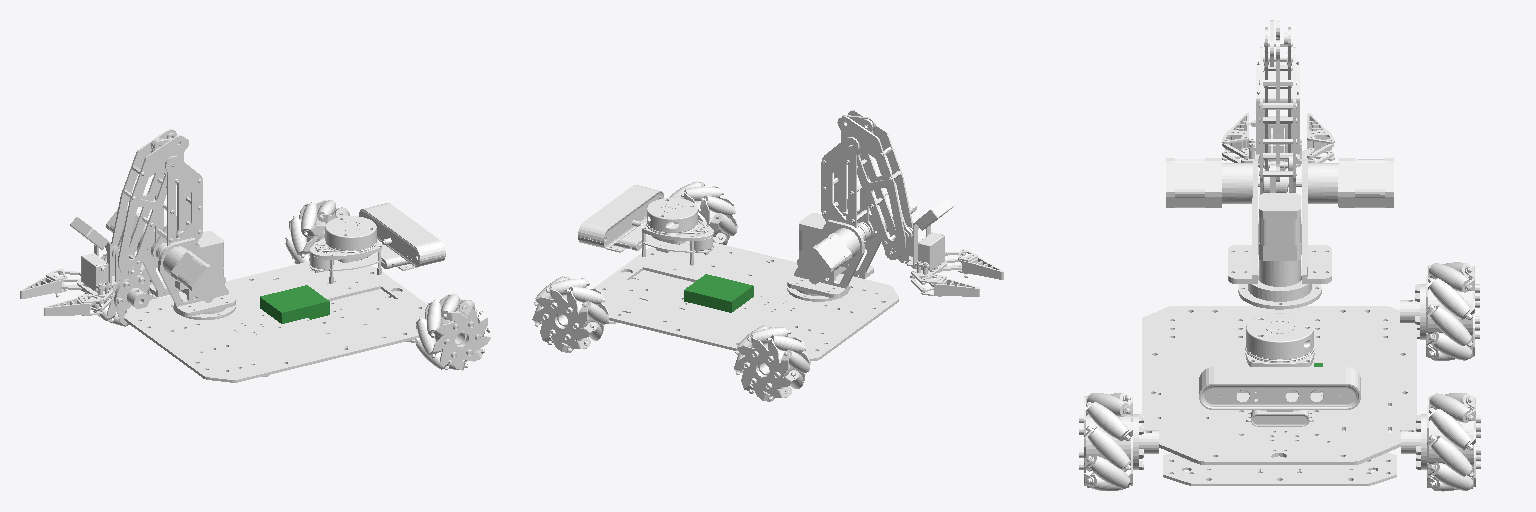
The robot description file, URDF, robot "mec_arm_urdf":
<?xml version="1.0" encoding="utf-8"?>
<!-- This URDF was automatically created by SolidWorks to URDF Exporter! Originally created by Stephen Brawner ([email redacted]) 
     Commit Version: 1.6.0-1-g15f4949  Build Version: 1.6.7594.29634
     For more information, please see http://wiki.ros.org/sw_urdf_exporter -->
<robot
  name="mec_arm_urdf">
  <link
    name="base_footprint">
    <inertial>
      <origin
        xyz="0.0560159662948603 0.000798286377036106 0.0213"
        rpy="0 0 0" />
      <mass
        value="0.171256197920355" />
      <inertia
        ixx="0.000556315681094618"
        ixy="-2.69656288538533E-07"
        ixz="-7.78679037909163E-20"
        iyy="0.00138230969964423"
        iyz="2.28567407614278E-20"
        izz="0.00193836849644197" />
    </inertial>
    <visual>
      <origin
        xyz="0 0 0"
        rpy="0 0 0" />
      <geometry>
        <mesh
          filename="package://mec_arm_urdf/meshes/base_footprint.STL" />
      </geometry>
      <material
        name="">
        <color
          rgba="1 1 1 1" />
      </material>
    </visual>
    <collision>
      <origin
        xyz="0 0 0"
        rpy="0 0 0" />
      <geometry>
        <mesh
          filename="package://mec_arm_urdf/meshes/base_footprint.STL" />
      </geometry>
    </collision>
  </link>
  <joint
    name="base_footprint_joint"
    type="fixed">
    <origin
      xyz="0 0 0"
      rpy="0 0 0" />
    <parent
      link="base_footprint" />
    <child
      link="base_link" />
    <axis
      xyz="0 0 0" />
  </joint>
  <link
    name="base_link">
    <inertial>
      <origin
        xyz="0.0100180226342788 -0.0075528475147414 0.0514879479603179"
        rpy="0 0 0" />
      <mass
        value="1.34353042508205" />
      <inertia
        ixx="0.00583184111250117"
        ixy="0.0010519604230734"
        ixz="-0.000115425814525346"
        iyy="0.0201678180719352"
        iyz="-0.000143700499512679"
        izz="0.0251210679537772" />
    </inertial>
    <visual>
      <origin
        xyz="0 0 0"
        rpy="0 0 0" />
      <geometry>
        <mesh
          filename="package://mec_arm_urdf/meshes/base_link.STL" />
      </geometry>
      <material
        name="">
        <color
          rgba="1 1 1 1" />
      </material>
    </visual>
    <collision>
      <origin
        xyz="0 0 0"
        rpy="0 0 0" />
      <geometry>
        <mesh
          filename="package://mec_arm_urdf/meshes/base_link.STL" />
      </geometry>
    </collision>
  </link>
  <link
    name="left_front_link">
    <inertial>
      <origin
        xyz="3.90309852688064E-07 -0.0122253108721364 -8.21475939970923E-06"
        rpy="0 0 0" />
      <mass
        value="0.228355235501207" />
      <inertia
        ixx="0.00018862772557126"
        ixy="-1.30959211698729E-08"
        ixz="1.12956960439363E-08"
        iyy="0.000256936504791058"
        iyz="-5.95436455840418E-08"
        izz="0.00018866162356639" />
    </inertial>
    <visual>
      <origin
        xyz="0 0 0"
        rpy="0 0 0" />
      <geometry>
        <mesh
          filename="package://mec_arm_urdf/meshes/left_front_link.STL" />
      </geometry>
      <material
        name="">
        <color
          rgba="1 1 1 1" />
      </material>
    </visual>
    <collision>
      <origin
        xyz="0 0 0"
        rpy="0 0 0" />
      <geometry>
        <mesh
          filename="package://mec_arm_urdf/meshes/left_front_link.STL" />
      </geometry>
    </collision>
  </link>
  <joint
    name="left_front_joint"
    type="fixed">
    <origin
      xyz="0.161977245706031 0.184377420388434 0.0508"
      rpy="0 0 0" />
    <parent
      link="base_link" />
    <child
      link="left_front_link" />
    <axis
      xyz="0 -1 0" />
  </joint>
  <link
    name="left_back_link">
    <inertial>
      <origin
        xyz="-3.65117333515075E-05 -0.0122418956163035 2.98349730089992E-06"
        rpy="0 0 0" />
      <mass
        value="0.228151031978724" />
      <inertia
        ixx="0.000188524043011259"
        ixy="1.43016481186546E-07"
        ixz="-9.41029728152265E-08"
        iyy="0.000256555084544574"
        iyz="-1.0644566687268E-07"
        izz="0.000188242023907636" />
    </inertial>
    <visual>
      <origin
        xyz="0 0 0"
        rpy="0 0 0" />
      <geometry>
        <mesh
          filename="package://mec_arm_urdf/meshes/left_back_link.STL" />
      </geometry>
      <material
        name="">
        <color
          rgba="1 1 1 1" />
      </material>
    </visual>
    <collision>
      <origin
        xyz="0 0 0"
        rpy="0 0 0" />
      <geometry>
        <mesh
          filename="package://mec_arm_urdf/meshes/left_back_link.STL" />
      </geometry>
    </collision>
  </link>
  <joint
    name="left_back_joint"
    type="fixed">
    <origin
      xyz="-0.152022754292458 0.183277420387553 0.0508000000000014"
      rpy="0 0 0" />
    <parent
      link="base_link" />
    <child
      link="left_back_link" />
    <axis
      xyz="0 0 0" />
  </joint>
  <link
    name="right_back_link">
    <inertial>
      <origin
        xyz="-3.90309837616787E-07 0.0122253108721363 -8.21475939968841E-06"
        rpy="0 0 0" />
      <mass
        value="0.228355235501207" />
      <inertia
        ixx="0.000188627725571259"
        ixy="-1.30959210857544E-08"
        ixz="-1.12956960438651E-08"
        iyy="0.000256936504791058"
        iyz="5.95436455839641E-08"
        izz="0.00018866162356639" />
    </inertial>
    <visual>
      <origin
        xyz="0 0 0"
        rpy="0 0 0" />
      <geometry>
        <mesh
          filename="package://mec_arm_urdf/meshes/right_back_link.STL" />
      </geometry>
      <material
        name="">
        <color
          rgba="1 1 1 1" />
      </material>
    </visual>
    <collision>
      <origin
        xyz="0 0 0"
        rpy="0 0 0" />
      <geometry>
        <mesh
          filename="package://mec_arm_urdf/meshes/right_back_link.STL" />
      </geometry>
    </collision>
  </link>
  <joint
    name="right_back_joint"
    type="fixed">
    <origin
      xyz="-0.152022754292454 -0.181522579612448 0.0508"
      rpy="0 0 0" />
    <parent
      link="base_link" />
    <child
      link="right_back_link" />
    <axis
      xyz="0 0 0" />
  </joint>
  <link
    name="right_front_link">
    <inertial>
      <origin
        xyz="-3.90309838199654E-07 0.012225310872136 -8.21475939968841E-06"
        rpy="0 0 0" />
      <mass
        value="0.228355235501207" />
      <inertia
        ixx="0.00018862772557126"
        ixy="-1.30959210859189E-08"
        ixz="-1.12956960437897E-08"
        iyy="0.000256936504791058"
        iyz="5.95436455839148E-08"
        izz="0.000188661623566391" />
    </inertial>
    <visual>
      <origin
        xyz="0 0 0"
        rpy="0 0 0" />
      <geometry>
        <mesh
          filename="package://mec_arm_urdf/meshes/right_front_link.STL" />
      </geometry>
      <material
        name="">
        <color
          rgba="1 1 1 1" />
      </material>
    </visual>
    <collision>
      <origin
        xyz="0 0 0"
        rpy="0 0 0" />
      <geometry>
        <mesh
          filename="package://mec_arm_urdf/meshes/right_front_link.STL" />
      </geometry>
    </collision>
  </link>
  <joint
    name="right_front_joint"
    type="fixed">
    <origin
      xyz="0.161977245706146 -0.182622579612668 0.0508"
      rpy="0 0 0" />
    <parent
      link="base_link" />
    <child
      link="right_front_link" />
    <axis
      xyz="0 0 0" />
  </joint>
  <link
    name="arm_A_Link">
    <inertial>
      <origin
        xyz="-0.0355055427182938 -5.23162710355934E-05 0.069923397868687"
        rpy="0 0 0" />
      <mass
        value="0.581339625806441" />
      <inertia
        ixx="0.0024492236846753"
        ixy="-1.01571798860696E-06"
        ixz="0.000361189142422271"
        iyy="0.00113812592624164"
        iyz="2.84518974512103E-07"
        izz="0.00239607564645459" />
    </inertial>
    <visual>
      <origin
        xyz="0 0 0"
        rpy="0 0 0" />
      <geometry>
        <mesh
          filename="package://mec_arm_urdf/meshes/arm_A_Link.STL" />
      </geometry>
      <material
        name="">
        <color
          rgba="1 1 1 1" />
      </material>
    </visual>
    <collision>
      <origin
        xyz="0 0 0"
        rpy="0 0 0" />
      <geometry>
        <mesh
          filename="package://mec_arm_urdf/meshes/arm_A_Link.STL" />
      </geometry>
    </collision>
  </link>
  <joint
    name="arm_A_joint"
    type="revolute">
    <origin
      xyz="-0.124522754292147 0.000877420387514163 0.0878000000000001"
      rpy="0 0 0" />
    <parent
      link="base_link" />
    <child
      link="arm_A_Link" />
    <axis
      xyz="0 0 1" />
    <limit
      lower="-2"
      upper="2"
      effort="100"
      velocity="3" />
  </joint>
  <link
    name="arm_B_link">
    <inertial>
      <origin
        xyz="0.012462170896364 0.00303164336526852 0.057637741692936"
        rpy="0 0 0" />
      <mass
        value="0.0608331582610214" />
      <inertia
        ixx="0.000176423032290306"
        ixy="1.88230408407754E-07"
        ixz="-1.09219493072973E-05"
        iyy="0.000181213206062631"
        iyz="1.00536553647033E-06"
        izz="2.73441496678826E-05" />
    </inertial>
    <visual>
      <origin
        xyz="0 0 0"
        rpy="0 0 0" />
      <geometry>
        <mesh
          filename="package://mec_arm_urdf/meshes/arm_B_link.STL" />
      </geometry>
      <material
        name="">
        <color
          rgba="1 1 1 1" />
      </material>
    </visual>
    <collision>
      <origin
        xyz="0 0 0"
        rpy="0 0 0" />
      <geometry>
        <mesh
          filename="package://mec_arm_urdf/meshes/arm_B_link.STL" />
      </geometry>
    </collision>
  </link>
  <joint
    name="arm_B_joint"
    type="revolute">
    <origin
      xyz="-0.0600031306298144 -0.00445133227954873 0.0920000000000016"
      rpy="0 0 0" />
    <parent
      link="arm_A_Link" />
    <child
      link="arm_B_link" />
    <axis
      xyz="0.000699999215463012 0.999999755000519 0" />
    <limit
      lower="-1.571"
      upper="0"
      effort="100"
      velocity="3" />
  </joint>
  <link
    name="arm_C_link">
    <inertial>
      <origin
        xyz="-0.0341528668767551 -0.00045795559879995 -0.0471097530370184"
        rpy="0 0 0" />
      <mass
        value="0.0521809615731932" />
      <inertia
        ixx="0.000175390434660146"
        ixy="9.39579151615732E-07"
        ixz="-6.17488626043269E-05"
        iyy="0.000207759993779123"
        iyz="1.66760958265695E-06"
        izz="4.32562481054573E-05" />
    </inertial>
    <visual>
      <origin
        xyz="0 0 0"
        rpy="0 0 0" />
      <geometry>
        <mesh
          filename="package://mec_arm_urdf/meshes/arm_C_link.STL" />
      </geometry>
      <material
        name="">
        <color
          rgba="1 1 1 1" />
      </material>
    </visual>
    <collision>
      <origin
        xyz="0 0 0"
        rpy="0 0 0" />
      <geometry>
        <mesh
          filename="package://mec_arm_urdf/meshes/arm_C_link.STL" />
      </geometry>
    </collision>
  </link>
  <joint
    name="arm_C_joint"
    type="revolute">
    <origin
      xyz="0 0.00249333272246793 0.14"
      rpy="0 0 0" />
    <parent
      link="arm_B_link" />
    <child
      link="arm_C_link" />
    <axis
      xyz="0.000699999215470337 0.999999755000519 0" />
    <limit
      lower="0"
      upper="1.9063"
      effort="100"
      velocity="3" />
  </joint>
  <link
    name="arm_D_link">
    <inertial>
      <origin
        xyz="0.0458486173462997 -3.8843224703336E-05 0.0316991137734097"
        rpy="0 0 0" />
      <mass
        value="0.0319055890738014" />
      <inertia
        ixx="4.87022444025051E-05"
        ixy="3.26134129639443E-09"
        ixz="-1.23781614342818E-05"
        iyy="5.30372255139268E-05"
        iyz="-5.41338108324172E-08"
        izz="1.76702927454795E-05" />
    </inertial>
    <visual>
      <origin
        xyz="0 0 0"
        rpy="0 0 0" />
      <geometry>
        <mesh
          filename="package://mec_arm_urdf/meshes/arm_D_link.STL" />
      </geometry>
      <material
        name="">
        <color
          rgba="1 1 1 1" />
      </material>
    </visual>
    <collision>
      <origin
        xyz="0 0 0"
        rpy="0 0 0" />
      <geometry>
        <mesh
          filename="package://mec_arm_urdf/meshes/arm_D_link.STL" />
      </geometry>
    </collision>
  </link>
  <joint
    name="arm_D_link"
    type="revolute">
    <origin
      xyz="-0.0610951511770949 4.27665683669365E-05 -0.147876234309874"
      rpy="0 0 3.14089265431722" />
    <parent
      link="arm_C_link" />
    <child
      link="arm_D_link" />
    <axis
      xyz="0 -1 0" />
    <limit
      lower="-3.14"
      upper="3.14"
      effort="0"
      velocity="0" />
  </joint>
  <link
    name="hand_left_link">
    <inertial>
      <origin
        xyz="-0.00754910920960822 -0.0163521839566973 0.00199562356219671"
        rpy="0 0 0" />
      <mass
        value="0.00273071796024516" />
      <inertia
        ixx="6.59907873530826E-07"
        ixy="-1.64763772864165E-07"
        ixz="-8.54125746597922E-09"
        iyy="3.72751382175096E-07"
        iyz="9.05335774458881E-08"
        izz="9.23178705684136E-07" />
    </inertial>
    <visual>
      <origin
        xyz="0 0 0"
        rpy="0 0 0" />
      <geometry>
        <mesh
          filename="package://mec_arm_urdf/meshes/hand_left_link.STL" />
      </geometry>
      <material
        name="">
        <color
          rgba="1 1 1 1" />
      </material>
    </visual>
    <collision>
      <origin
        xyz="0 0 0"
        rpy="0 0 0" />
      <geometry>
        <mesh
          filename="package://mec_arm_urdf/meshes/hand_left_link.STL" />
      </geometry>
    </collision>
  </link>
  <joint
    name="hand_left_joint"
    type="revolute">
    <origin
      xyz="0.0525135568297475 0.0124999999991741 -0.0217673229695179"
      rpy="0 0 -3.14089265431722" />
    <parent
      link="arm_D_link" />
    <child
      link="hand_left_link" />
    <axis
      xyz="-0.000622339485861133 0 -0.999999806346669" />
    <limit
      lower="-3.14"
      upper="3.14"
      effort="0"
      velocity="0" />
  </joint>
  <link
    name="hand_left2_link">
    <inertial>
      <origin
        xyz="0.0181137526905634 -0.00379261032942863 -0.0106718986481277"
        rpy="0 0 0" />
      <mass
        value="0.00956820452019048" />
      <inertia
        ixx="8.41108866461622E-07"
        ixy="5.21628388296674E-07"
        ixz="1.88195585294921E-08"
        iyy="3.44967926161437E-06"
        iyz="-3.53607898621554E-09"
        izz="3.6508167862196E-06" />
    </inertial>
    <visual>
      <origin
        xyz="0 0 0"
        rpy="0 0 0" />
      <geometry>
        <mesh
          filename="package://mec_arm_urdf/meshes/hand_left2_link.STL" />
      </geometry>
      <material
        name="">
        <color
          rgba="1 1 1 1" />
      </material>
    </visual>
    <collision>
      <origin
        xyz="0 0 0"
        rpy="0 0 0" />
      <geometry>
        <mesh
          filename="package://mec_arm_urdf/meshes/hand_left2_link.STL" />
      </geometry>
    </collision>
  </link>
  <joint
    name="hand_left2_joint"
    type="revolute">
    <origin
      xyz="-0.0330405382929441 -0.0303982387322566 0.0151205521173121"
      rpy="0 -0.000622339678471569 3.14089265431697" />
    <parent
      link="hand_left_link" />
    <child
      link="hand_left2_link" />
    <axis
      xyz="0 0 1" />
    <limit
      lower="-3.14"
      upper="3.14"
      effort="0"
      velocity="0" />
  </joint>
  <link
    name="hand_right_link">
    <inertial>
      <origin
        xyz="-0.00698776262686712 0.0151741195562096 0.00203485611296442"
        rpy="0 0 0" />
      <mass
        value="0.00294647468969655" />
      <inertia
        ixx="7.17485248587315E-07"
        ixy="1.89006694234469E-07"
        ixz="-5.43833444401418E-09"
        iyy="3.8799063611063E-07"
        iyz="-9.76481738050539E-08"
        izz="9.93743988829867E-07" />
    </inertial>
    <visual>
      <origin
        xyz="0 0 0"
        rpy="0 0 0" />
      <geometry>
        <mesh
          filename="package://mec_arm_urdf/meshes/hand_right_link.STL" />
      </geometry>
      <material
        name="">
        <color
          rgba="1 1 1 1" />
      </material>
    </visual>
    <collision>
      <origin
        xyz="0 0 0"
        rpy="0 0 0" />
      <geometry>
        <mesh
          filename="package://mec_arm_urdf/meshes/hand_right_link.STL" />
      </geometry>
    </collision>
  </link>
  <joint
    name="hand_right_joint"
    type="revolute">
    <origin
      xyz="0.0525136812977705 -0.0125000000008439 -0.0219673229308055"
      rpy="0 0 -3.14089265431722" />
    <parent
      link="arm_D_link" />
    <child
      link="hand_right_link" />
    <axis
      xyz="-0.000622339485850539 0 -0.999999806346668" />
    <limit
      lower="-3.14"
      upper="3.14"
      effort="0"
      velocity="0" />
  </joint>
  <link
    name="hand_right2_link">
    <inertial>
      <origin
        xyz="0.018114856307163 0.00378636756916045 -0.0106718986786418"
        rpy="0 0 0" />
      <mass
        value="0.00956820557876743" />
      <inertia
        ixx="8.41311792354063E-07"
        ixy="-5.22301908069689E-07"
        ixz="1.88166341176076E-08"
        iyy="3.44943614798538E-06"
        iyz="3.55269680427386E-09"
        izz="3.65077658100887E-06" />
    </inertial>
    <visual>
      <origin
        xyz="0 0 0"
        rpy="0 0 0" />
      <geometry>
        <mesh
          filename="package://mec_arm_urdf/meshes/hand_right2_link.STL" />
      </geometry>
      <material
        name="">
        <color
          rgba="1 1 1 1" />
      </material>
    </visual>
    <collision>
      <origin
        xyz="0 0 0"
        rpy="0 0 0" />
      <geometry>
        <mesh
          filename="package://mec_arm_urdf/meshes/hand_right2_link.STL" />
      </geometry>
    </collision>
  </link>
  <joint
    name="hand_right2_joint"
    type="revolute">
    <origin
      xyz="-0.0329978239682952 0.0304444655460155 0.0153205520785993"
      rpy="0 -0.000622339678471569 3.14089265431697" />
    <parent
      link="hand_right_link" />
    <child
      link="hand_right2_link" />
    <axis
      xyz="0 0 1" />
    <limit
      lower="-3.14"
      upper="3.14"
      effort="0"
      velocity="0" />
  </joint>
  <link
    name="grasper_Link">
    <inertial>
      <origin
        xyz="0 0 0"
        rpy="0 0 0" />
      <mass
        value="6.54498469497874E-05" />
      <inertia
        ixx="1.63624617374468E-10"
        ixy="2.77679038637796E-28"
        ixz="-3.55543908418005E-27"
        iyy="1.63624617374469E-10"
        iyz="-3.56904092830109E-27"
        izz="1.63624617374469E-10" />
    </inertial>
    <visual>
      <origin
        xyz="0 0 0"
        rpy="0 0 0" />
      <geometry>
        <mesh
          filename="package://mec_arm_urdf/meshes/grasper_Link.STL" />
      </geometry>
      <material
        name="">
        <color
          rgba="1 1 1 1" />
      </material>
    </visual>
    <collision>
      <origin
        xyz="0 0 0"
        rpy="0 0 0" />
      <geometry>
        <mesh
          filename="package://mec_arm_urdf/meshes/grasper_Link.STL" />
      </geometry>
    </collision>
  </link>
  <joint
    name="grasper_joint"
    type="revolute">
    <origin
      xyz="0.109009483404727 0 -0.0149321619970667"
      rpy="0 -0.00062233967852366 0" />
    <parent
      link="arm_D_link" />
    <child
      link="grasper_Link" />
    <axis
      xyz="0 1 0" />
    <limit
      lower="-3.14"
      upper="3.14"
      effort="0"
      velocity="0" />
  </joint>
  
  <link
    name="laser">
    <inertial>
      <origin
        xyz="0.00702376363498064 0.000112406518639141 -0.0616"
        rpy="0 0 0" />
      <mass
        value="0.000583282064961358" />
      <inertia
        ixx="3.51508139529731E-07"
        ixy="2.38228016415272E-21"
        ixz="1.65825472815802E-22"
        iyy="7.20725686650268E-07"
        iyz="-1.35074909460095E-23"
        izz="1.06251245843064E-06" />
    </inertial>
    <visual>
      <origin
        xyz="0 0 0"
        rpy="0 0 0" />
      <geometry>
        <mesh
          filename="package://mec_arm_urdf/meshes/laser.STL" />
      </geometry>
      <material
        name="">
        <color
          rgba="1 1 1 1" />
      </material>
    </visual>
    <collision>
      <origin
        xyz="0 0 0"
        rpy="0 0 0" />
      <geometry>
        <mesh
          filename="package://mec_arm_urdf/meshes/laser.STL" />
      </geometry>
    </collision>
  </link>
  <joint
    name="laser_joint"
    type="fixed">
    <origin
      xyz="0.10389992440247 0.000989826908518357 0.1524"
      rpy="0 0 3.14159265358979" />
    <parent
      link="base_footprint" />
    <child
      link="laser" />
    <axis
      xyz="0 0 0" />
  </joint>
  <link
    name="camera_link">
    <inertial>
      <origin
        xyz="-0.0214828700173958 0.000688278105519136 -0.0090733056763721"
        rpy="0 0 0" />
      <mass
        value="0.0691627315824666" />
      <inertia
        ixx="0.000141945703507345"
        ixy="1.45895759559288E-07"
        ixz="-4.06029035797186E-06"
        iyy="3.4845259941912E-05"
        iyz="-2.78618632123174E-08"
        izz="0.000141060580636252" />
    </inertial>
    <visual>
      <origin
        xyz="0 0 0"
        rpy="0 0 0" />
      <geometry>
        <mesh
          filename="package://mec_arm_urdf/meshes/camera_link.STL" />
      </geometry>
      <material
        name="">
        <color
          rgba="1 1 1 1" />
      </material>
    </visual>
    <collision>
      <origin
        xyz="0 0 0"
        rpy="0 0 0" />
      <geometry>
        <mesh
          filename="package://mec_arm_urdf/meshes/camera_link.STL" />
      </geometry>
    </collision>
  </link>
  <joint
    name="camera_joint"
    type="fixed">
    <origin
      xyz="0.201927245706108 0.000256997231213321 0.121050000003221"
      rpy="0 0 0" />
    <parent
      link="base_footprint" />
    <child
      link="camera_link" />
    <axis
      xyz="0 0 0" />
  </joint>
  <link
    name="gyro_link">
    <inertial>
      <origin
        xyz="1.73472347597681E-18 -1.38777878078145E-17 -0.0125440831031229"
        rpy="0 0 0" />
      <mass
        value="0.112242743338823" />
      <inertia
        ixx="3.95443284089363E-05"
        ixy="-3.38014056255545E-22"
        ixz="4.59054650327035E-24"
        iyy="5.79553250973316E-05"
        iyz="1.53254129251386E-21"
        izz="8.56596970693901E-05" />
    </inertial>
    <visual>
      <origin
        xyz="0 0 0"
        rpy="0 0 0" />
      <geometry>
        <mesh
          filename="package://mec_arm_urdf/meshes/gyro_link.STL" />
      </geometry>
      <material
        name="">
        <color
          rgba="0.286274509803922 0.662745098039216 0.329411764705882 1" />
      </material>
    </visual>
    <collision>
      <origin
        xyz="0 0 0"
        rpy="0 0 0" />
      <geometry>
        <mesh
          filename="package://mec_arm_urdf/meshes/gyro_link.STL" />
      </geometry>
    </collision>
  </link>
  <joint
    name="gyro_link_joint"
    type="fixed">
    <origin
      xyz="0.0234531028277063 0.0143774203878325 0.0578"
      rpy="0 0 0" />
    <parent
      link="base_footprint" />
    <child
      link="gyro_link" />
    <axis
      xyz="0 0 0" />
  </joint>
</robot>

--- Render facts (derived) ---
3 views of the same robot in one strip: view 1: azimuth 30°, elevation 25°; view 2: azimuth 150°, elevation 25°; view 3: azimuth 270°, elevation 25° (orthographic).
Robot: mec_arm_urdf — 18 links, 17 joints (9 revolute, 8 fixed); root link base_footprint; default pose: all joints at 0.
Links seen in each view (by area): view 1: base_link, arm_A_Link, arm_C_link, right_front_link, arm_B_link, camera_link, laser, arm_D_link, left_front_link, gyro_link, left_back_link, base_footprint (+2 smaller); view 2: base_link, arm_A_Link, arm_C_link, left_back_link, left_front_link, arm_B_link, camera_link, laser, arm_D_link, right_front_link, gyro_link, hand_right2_link (+2 smaller); view 3: base_link, arm_A_Link, camera_link, base_footprint, left_front_link, left_back_link, right_front_link, laser, arm_B_link, arm_D_link, arm_C_link, hand_right2_link (+1 smaller).
Boxes of the visible links, x1,y1,x2,y2 form: base_link: (124, 261, 426, 382); arm_A_Link: (106, 206, 235, 319); arm_C_link: (111, 129, 188, 279); right_front_link: (415, 294, 490, 370); arm_B_link: (151, 133, 202, 260); camera_link: (359, 203, 445, 270); laser: (310, 216, 381, 283); arm_D_link: (70, 217, 129, 297); left_front_link: (285, 200, 349, 263); gyro_link: (260, 285, 329, 323); left_back_link: (84, 253, 159, 326); base_footprint: (263, 289, 419, 376); base_link: (593, 242, 898, 361); arm_A_Link: (787, 186, 916, 301); arm_C_link: (839, 110, 912, 259); left_back_link: (734, 325, 810, 401); left_front_link: (532, 276, 609, 352); arm_B_link: (821, 117, 873, 240); camera_link: (578, 185, 663, 252); laser: (642, 198, 713, 265); arm_D_link: (894, 197, 953, 278); right_front_link: (669, 181, 737, 244); gyro_link: (684, 274, 753, 312); hand_right2_link: (921, 274, 979, 296); base_link: (1142, 306, 1416, 464); arm_A_Link: (1166, 158, 1393, 309); camera_link: (1199, 367, 1360, 426); base_footprint: (1163, 427, 1396, 485); left_front_link: (1401, 393, 1480, 491); left_back_link: (1400, 262, 1479, 360); right_front_link: (1079, 393, 1158, 490); laser: (1245, 313, 1314, 366); arm_B_link: (1259, 33, 1296, 194); arm_D_link: (1241, 61, 1314, 170); arm_C_link: (1263, 20, 1292, 170); hand_right2_link: (1307, 113, 1334, 160).
Bounding box of the posed robot: 0.6067 × 0.409 × 0.357 m (x, y, z).
Meshes: 18 distinct files referenced, 17 mesh visuals loaded (17 binary STL); not drawn: 1 (reference not matched to a file when rendering).
